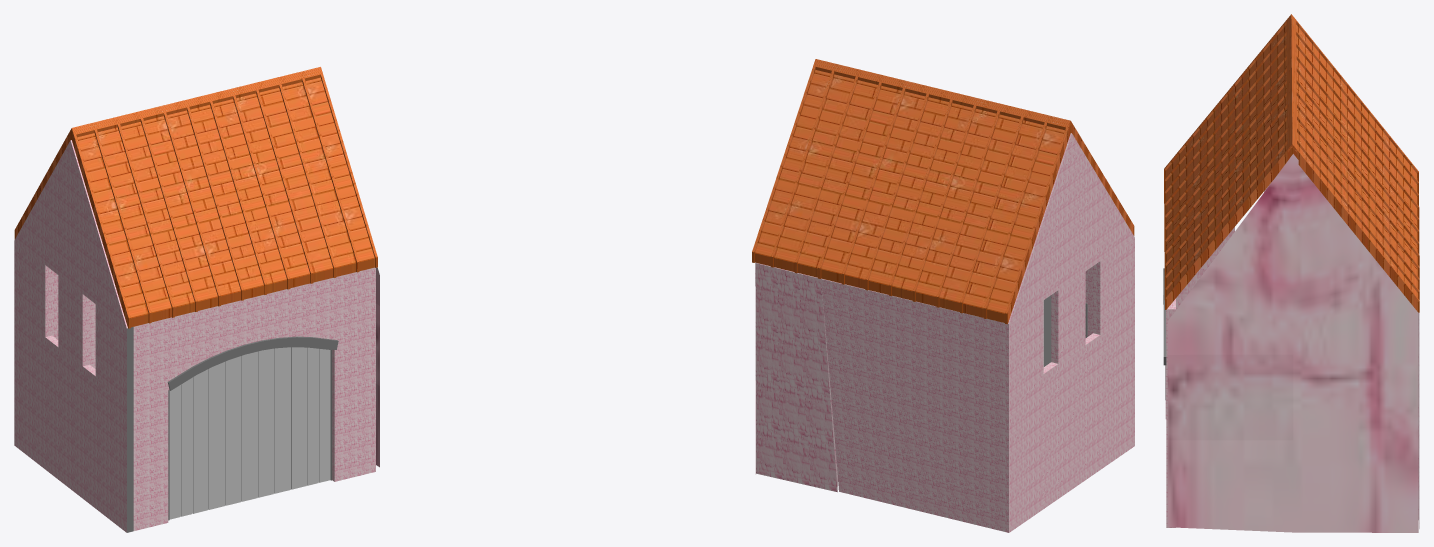
Rendered from cochera.obj.
3 renders of one model, left to right at view 1: azimuth 30°, elevation 25°; view 2: azimuth 150°, elevation 25°; view 3: azimuth 270°, elevation 25°, orthographic. The views are drawn at different scales.
Parts seen in each view (by area): view 1: cochera:MBH1OBJ_05, cochera:MBH1OBJ_01, cochera:MBH1OBJ_06, cochera:Home; view 2: cochera:MBH1OBJ_05, cochera:MBH1OBJ_01, cochera:MBH1OBJ_06; view 3: cochera:Home, cochera:MBH1OBJ_01, cochera:MBH1OBJ_05.
Part boxes in pixels (x1,y1,x2,y2): cochera:MBH1OBJ_05: (14,140,375,532); cochera:MBH1OBJ_01: (14,67,377,328); cochera:MBH1OBJ_06: (167,336,338,520); cochera:Home: (376,267,379,467); cochera:MBH1OBJ_05: (755,133,1134,532); cochera:MBH1OBJ_01: (752,59,1134,324); cochera:MBH1OBJ_06: (1043,295,1087,366); cochera:Home: (1167,154,1418,532); cochera:MBH1OBJ_01: (1164,14,1419,312); cochera:MBH1OBJ_05: (1165,181,1419,528).
Size of the model in its own units: 148 by 107 by 63.96.
